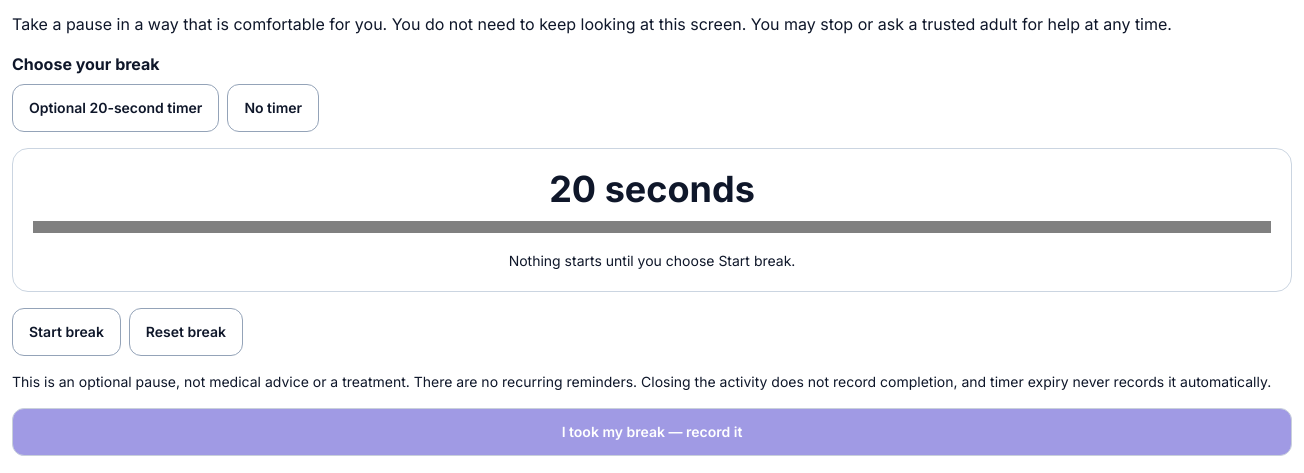
Test: optional Screen Break › pauses when hidden and requires explicit resume after returning
The image size is (1304, 473).
What coordinates should you click on to do the following:
click the button "Start break"
I would click on:
 (66, 332)
Its box is top-left (12, 308), bottom-right (121, 356).
Wait 70000 ms
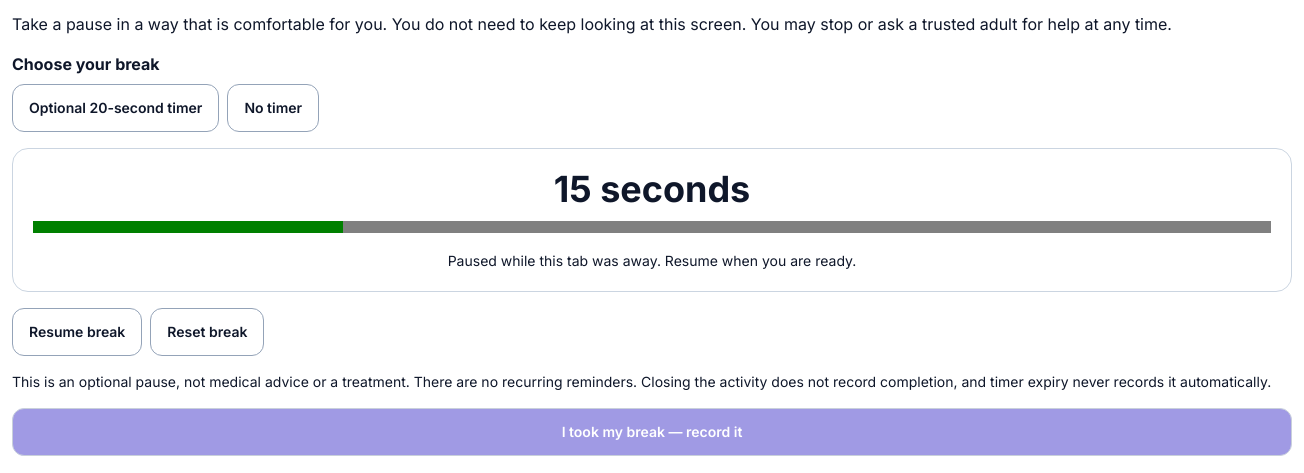
Result: the text "15 seconds" is shown at top-left (554, 167), bottom-right (750, 211)
Result: the text "Paused while this tab was away. Resume when you are ready." is shown at top-left (448, 252), bottom-right (856, 269)
Result: the button "Resume break" is shown at top-left (12, 308), bottom-right (142, 356)
